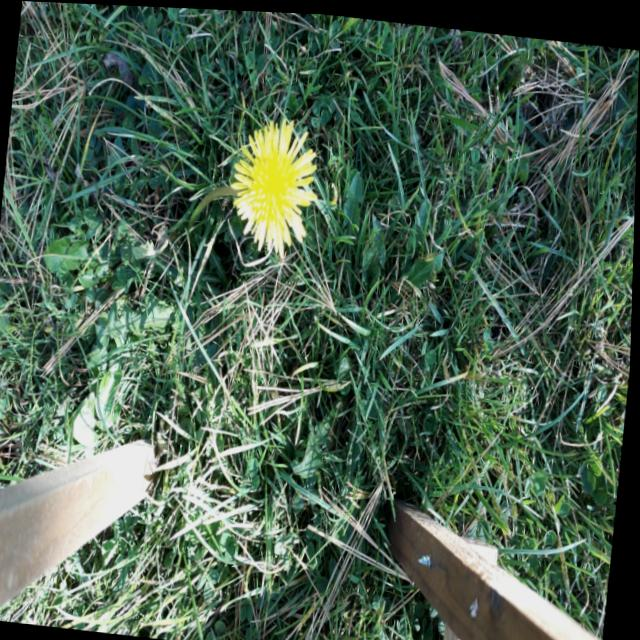base: (180, 224, 205, 264)
flower: (226, 108, 323, 252)
